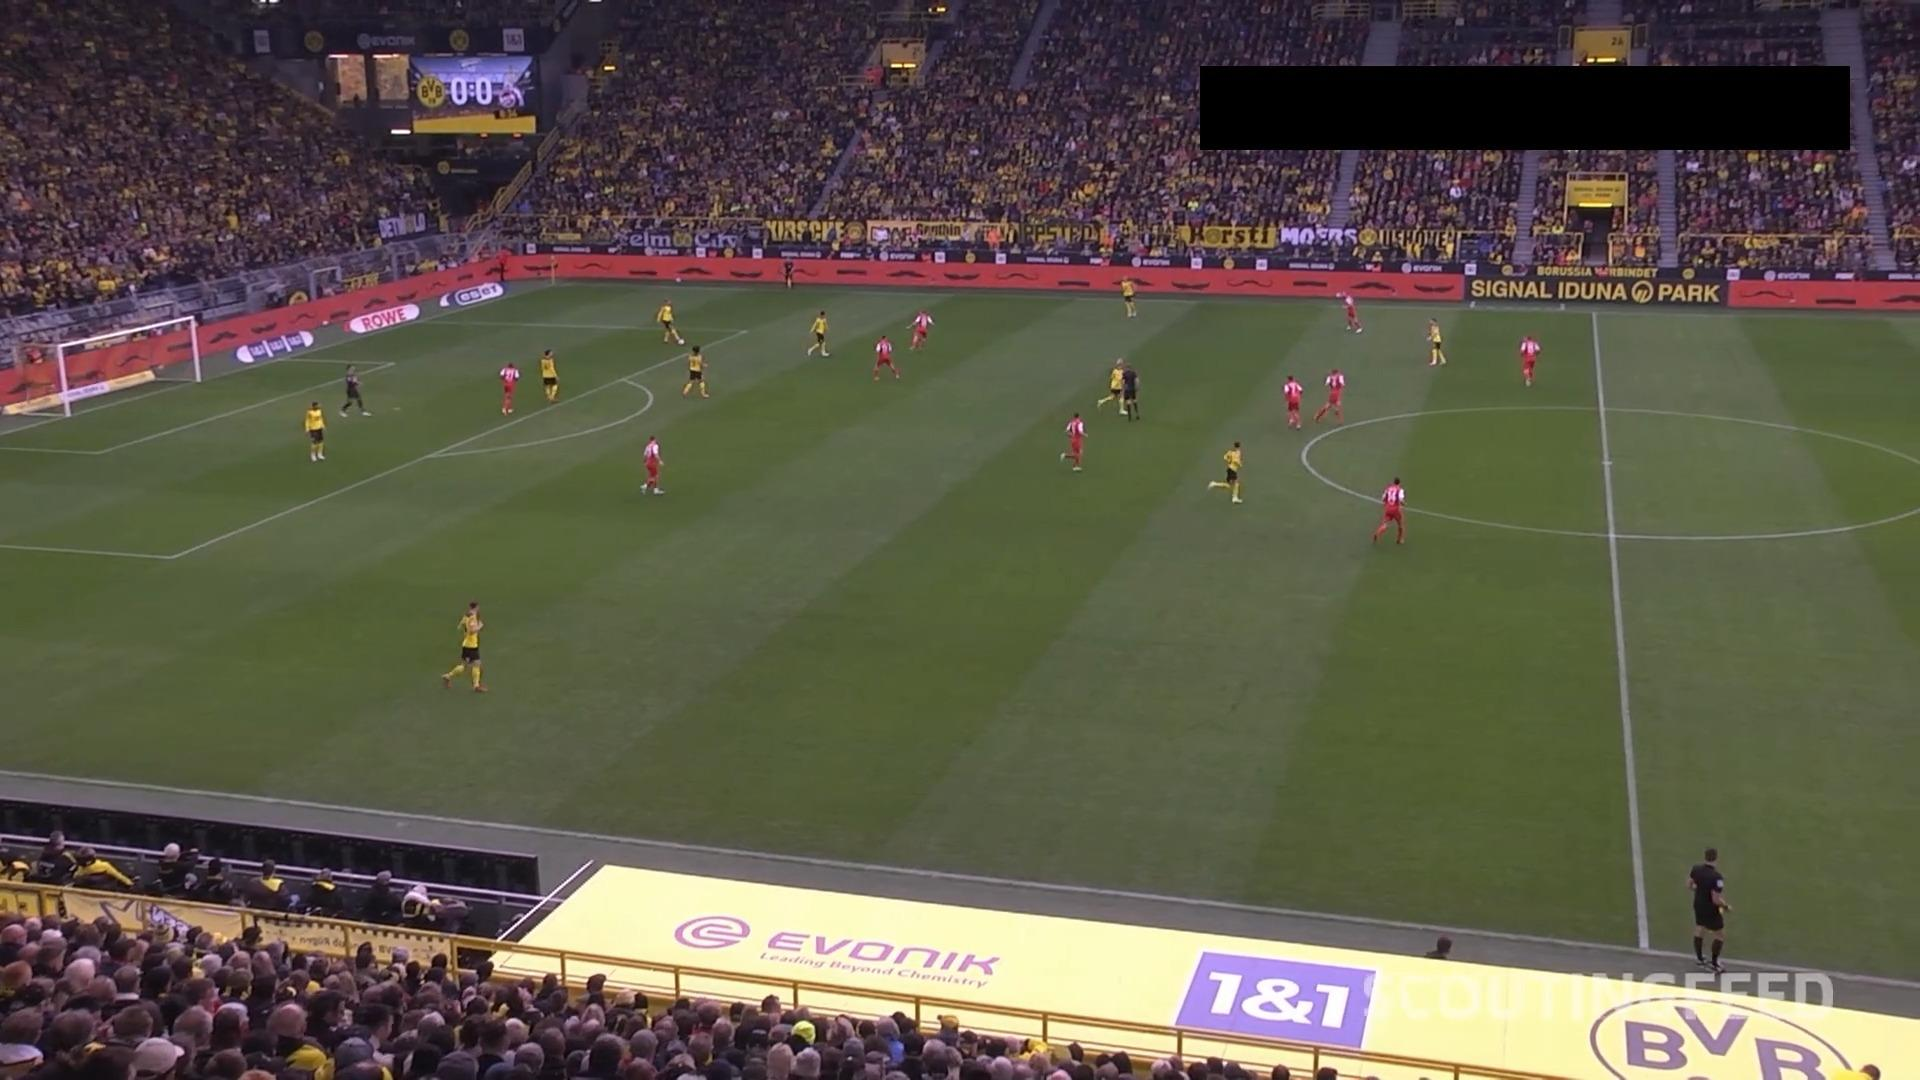player: (440, 599, 489, 692), (1370, 476, 1407, 545), (1206, 439, 1243, 503), (338, 363, 372, 417), (1313, 367, 1344, 424), (1095, 357, 1126, 412), (1060, 411, 1087, 472), (681, 344, 710, 398), (639, 435, 665, 495), (304, 400, 327, 461), (871, 333, 900, 381), (655, 300, 685, 346), (1335, 289, 1363, 334), (1517, 333, 1540, 386), (1282, 373, 1303, 429), (806, 309, 830, 357), (905, 309, 933, 350), (498, 361, 519, 415), (539, 347, 559, 401), (1425, 316, 1446, 366), (1119, 276, 1138, 317)
referee: (1686, 846, 1732, 973), (1118, 362, 1140, 419), (782, 259, 794, 289)
